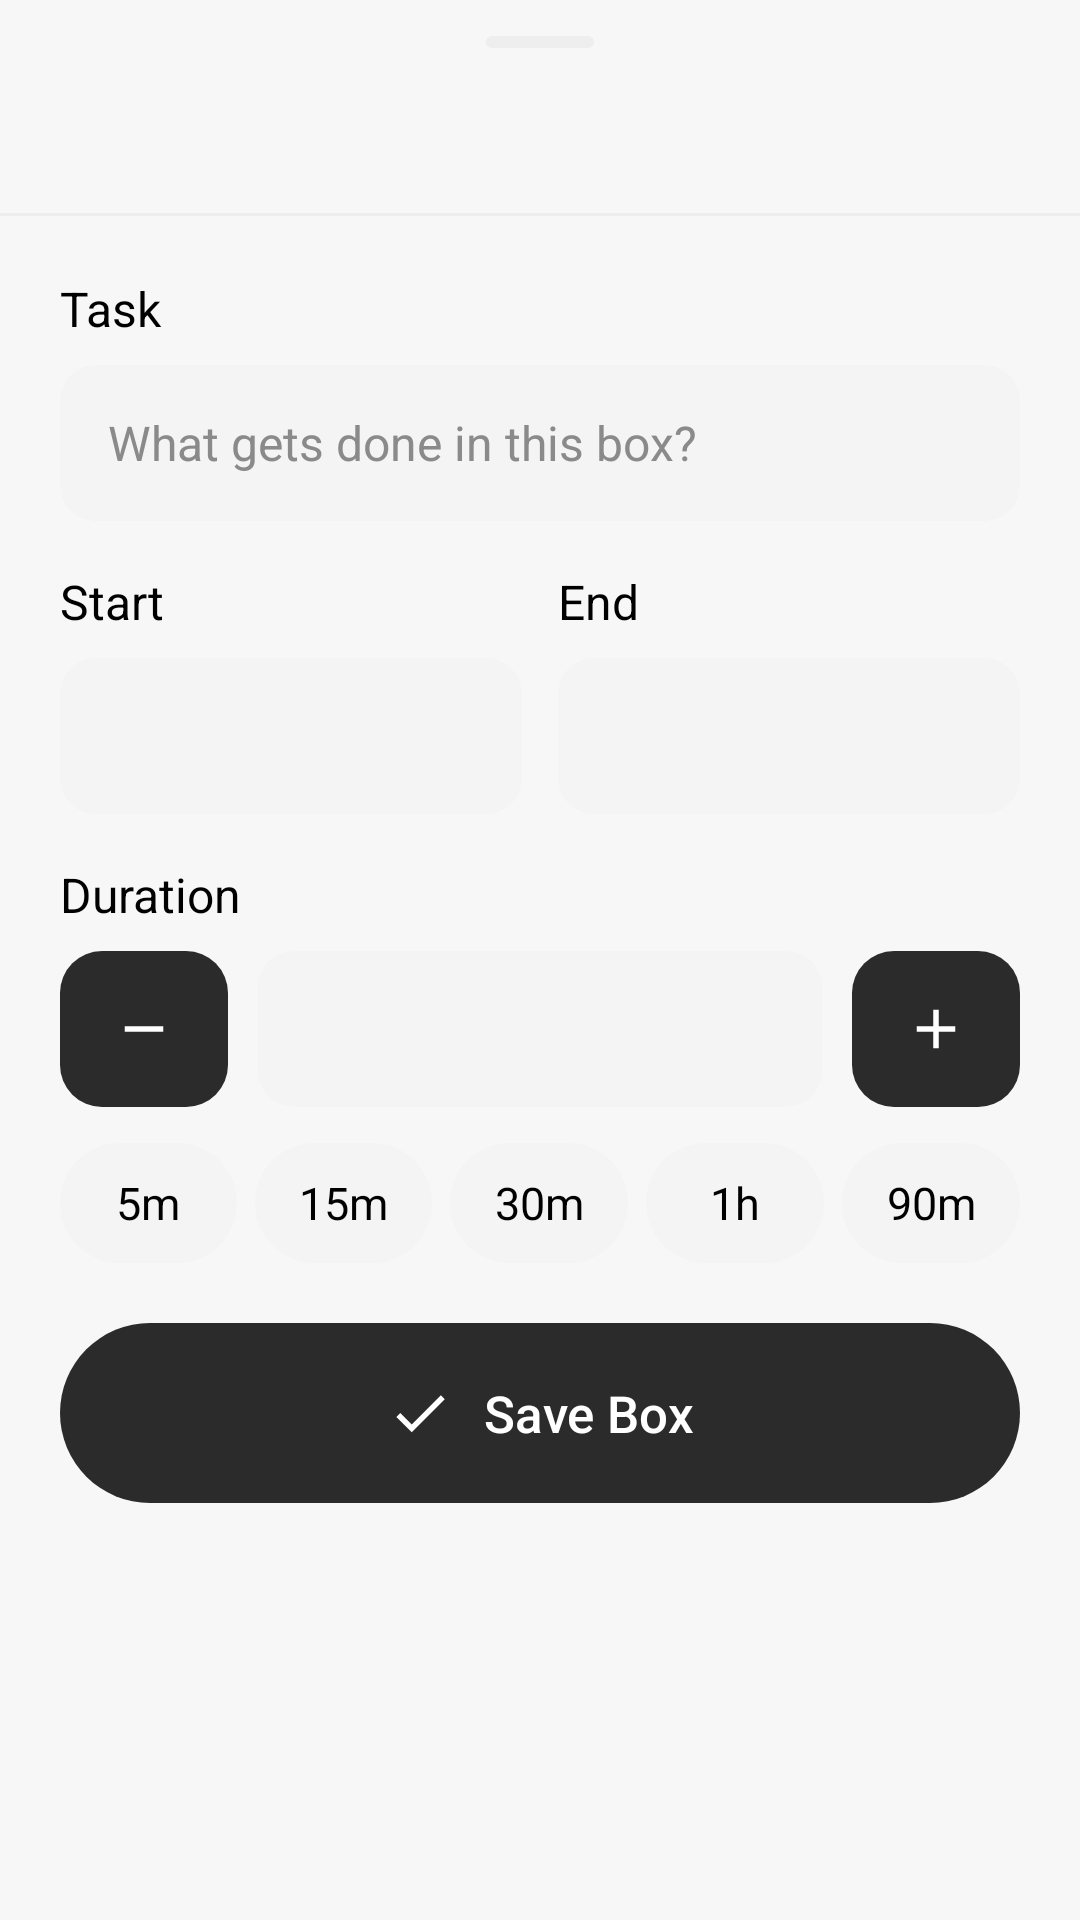

Where icons sit on this 1080 × 1920 app screen, as (x1, y1, x2, y2):
Longer: (852, 951, 1020, 1107)
Shorter: (60, 951, 228, 1107)
